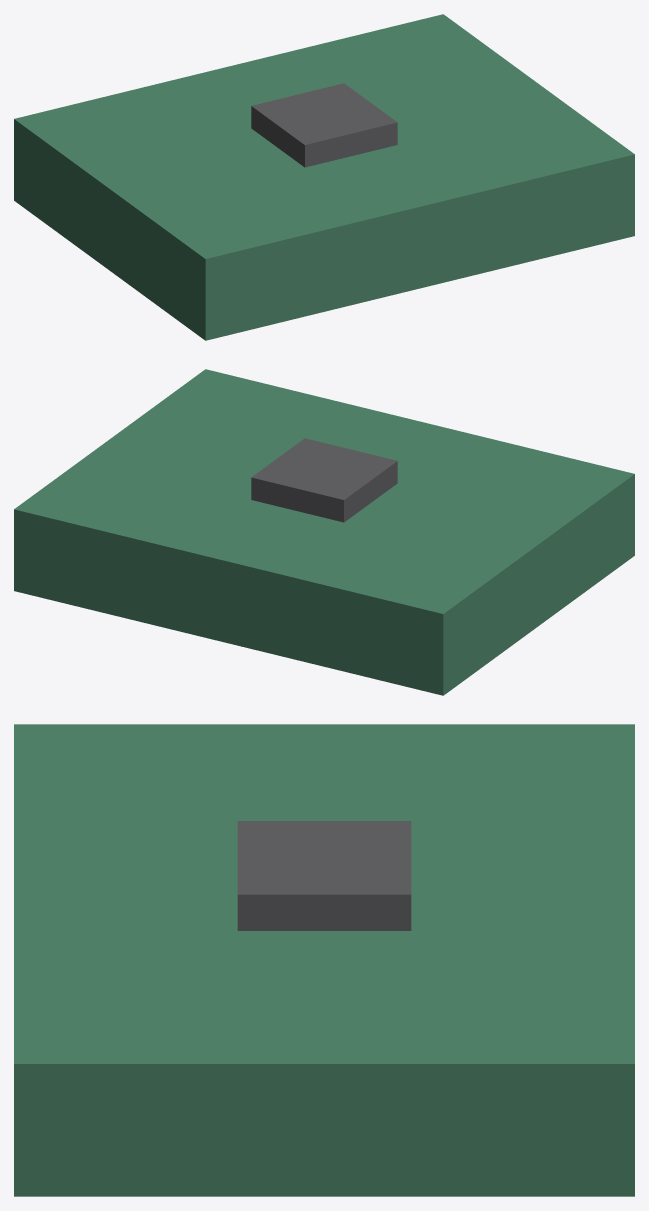
3 views of the same model, one above another, from view 1: azimuth 30°, elevation 25°; view 2: azimuth 150°, elevation 25°; view 3: azimuth 270°, elevation 25° (orthographic). The views are drawn at different scales.
Visible parts, largest first — view 1: mp1584-pcb, mp1584-ic; view 2: mp1584-pcb, mp1584-ic; view 3: mp1584-pcb, mp1584-ic.
Part boxes in pixels (box(x1,y1,x2,y2)): mp1584-pcb: box(14, 14, 634, 340); mp1584-ic: box(251, 83, 397, 167); mp1584-pcb: box(14, 369, 634, 695); mp1584-ic: box(251, 438, 397, 522); mp1584-pcb: box(14, 724, 634, 1196); mp1584-ic: box(237, 821, 411, 930).
Size of the model in its own units: 0.022 by 0.0051 by 0.017.
